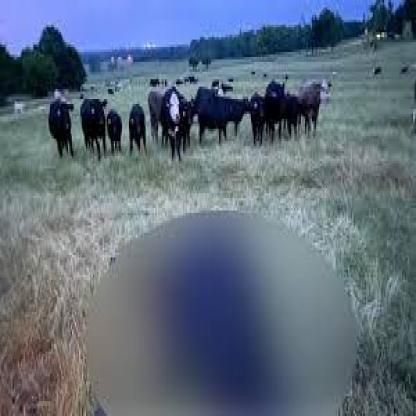cow: (298, 78, 330, 140), (197, 98, 236, 145), (79, 97, 107, 161), (49, 97, 76, 161), (165, 86, 184, 162), (266, 80, 286, 142), (128, 103, 147, 157), (286, 94, 308, 139), (248, 92, 266, 146), (148, 90, 164, 148), (230, 96, 252, 138), (190, 86, 216, 118), (106, 109, 123, 151), (182, 99, 194, 149)
